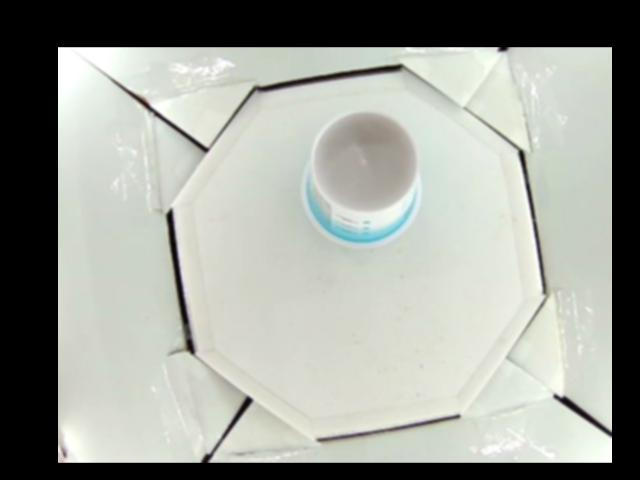Cup: (301, 108, 421, 248)
